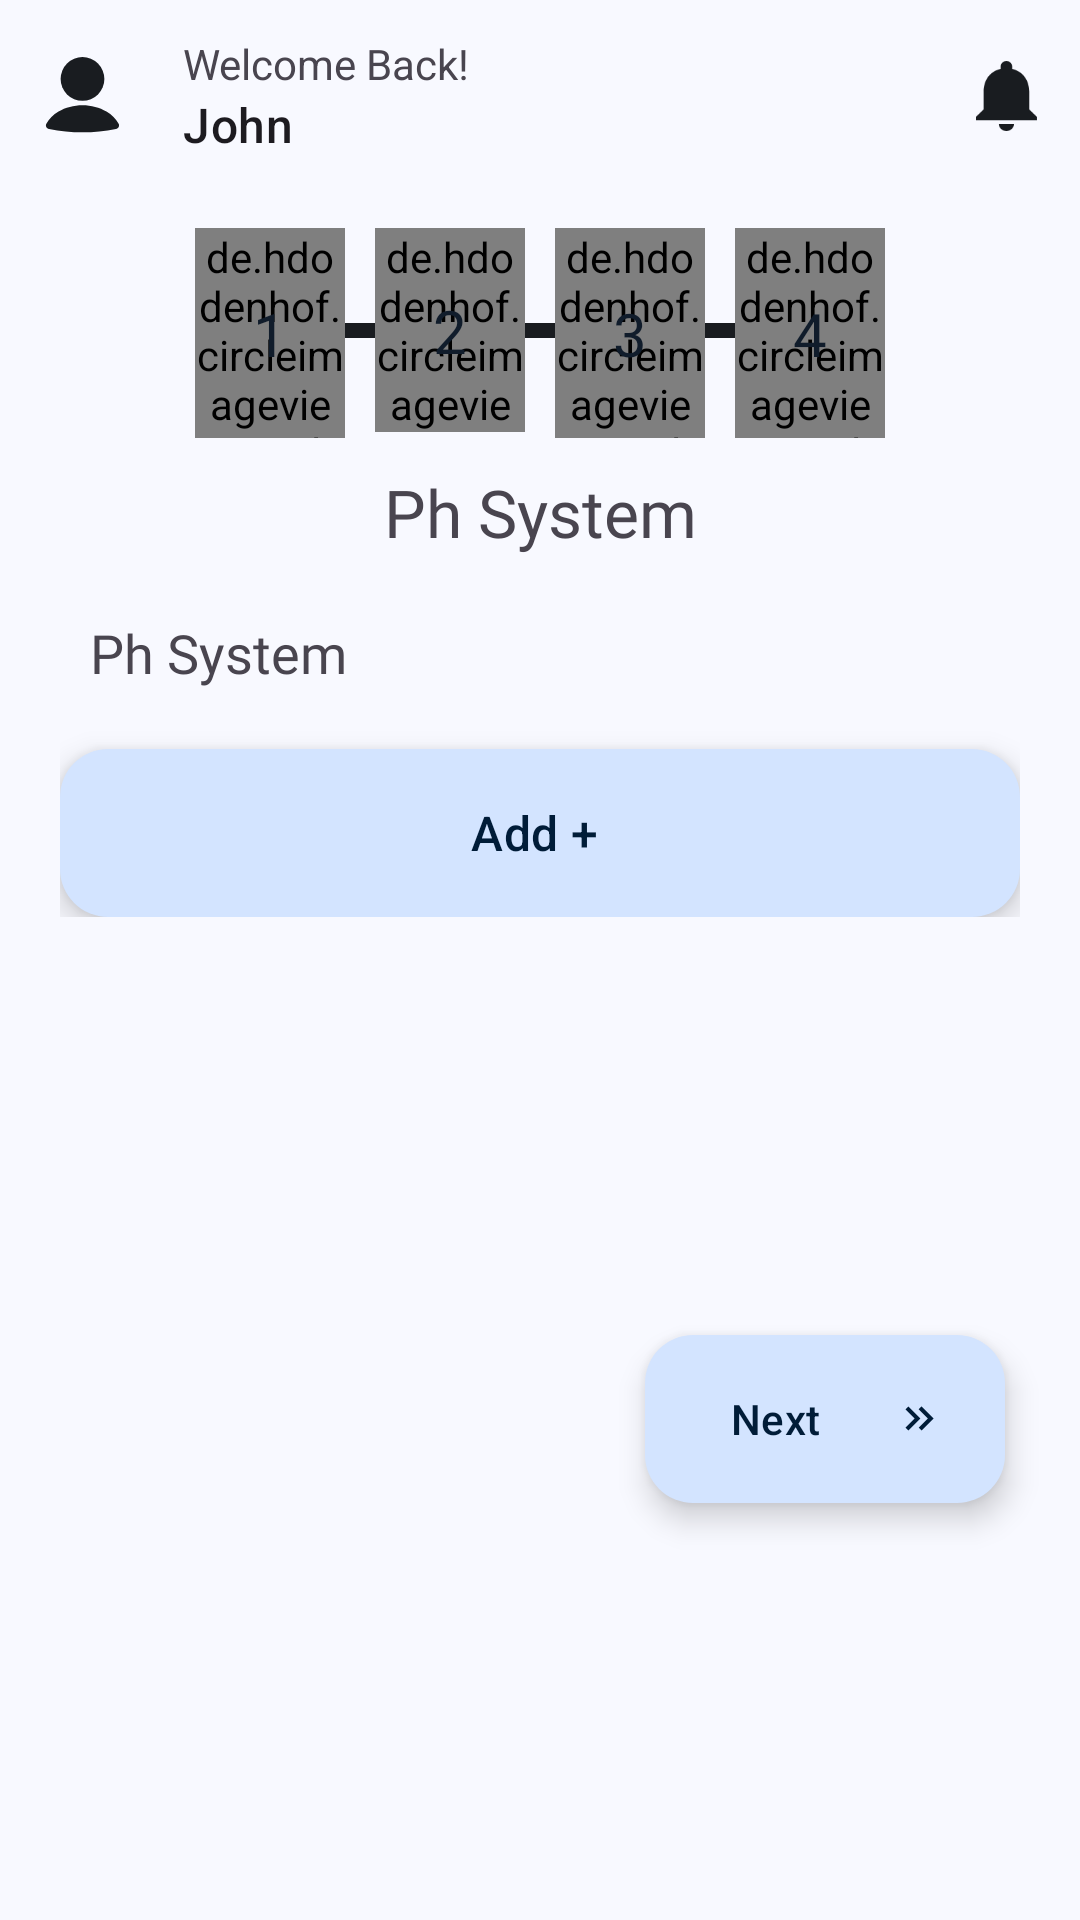

Screen size 1080 x 1920. Icon name, then its box in pixels as (x1, y1, x2, y2):
user: (46, 57, 119, 133)
